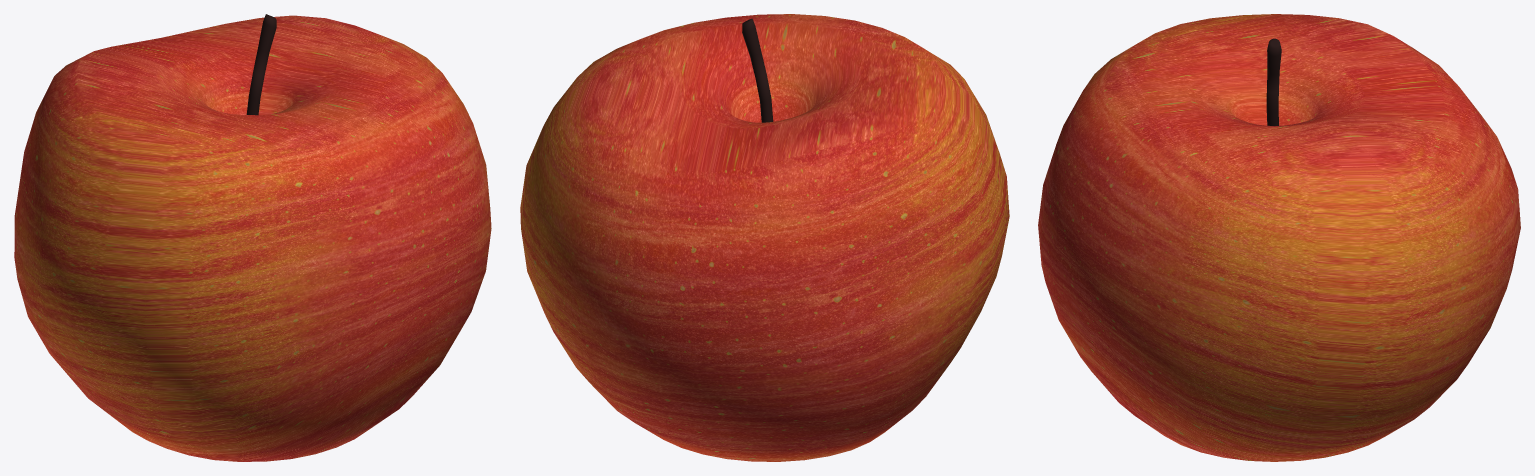
File: apple_Real2.glb
The picture shows the model from 3 angles, left to right: view 1: azimuth 30°, elevation 25°; view 2: azimuth 150°, elevation 25°; view 3: azimuth 270°, elevation 25°; orthographic projection. The views are drawn at different scales.
Parts seen in each view (by area): view 1: apple; view 2: apple; view 3: apple.
Boxes of the visible parts, x1,y1,x2,y2 form: apple: (14, 14, 491, 461); apple: (520, 14, 1009, 461); apple: (1038, 14, 1520, 461).
Bounding box in the file's own units: 2 × 1.75 × 2.03.
Materials: 2 (1 with a texture image).
